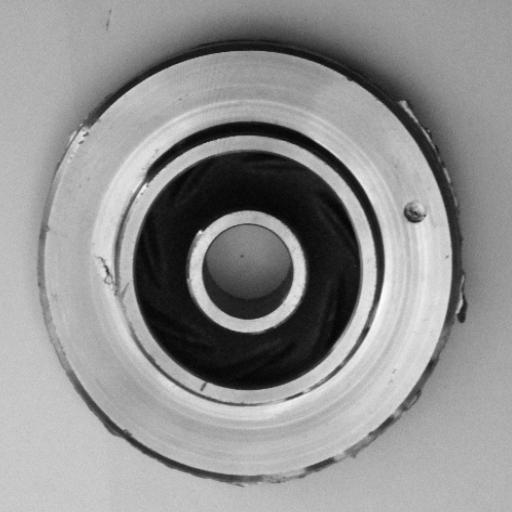casting_with_burr: (33, 36, 471, 486)
crack: (88, 250, 137, 311)
pit: (395, 194, 434, 235)
